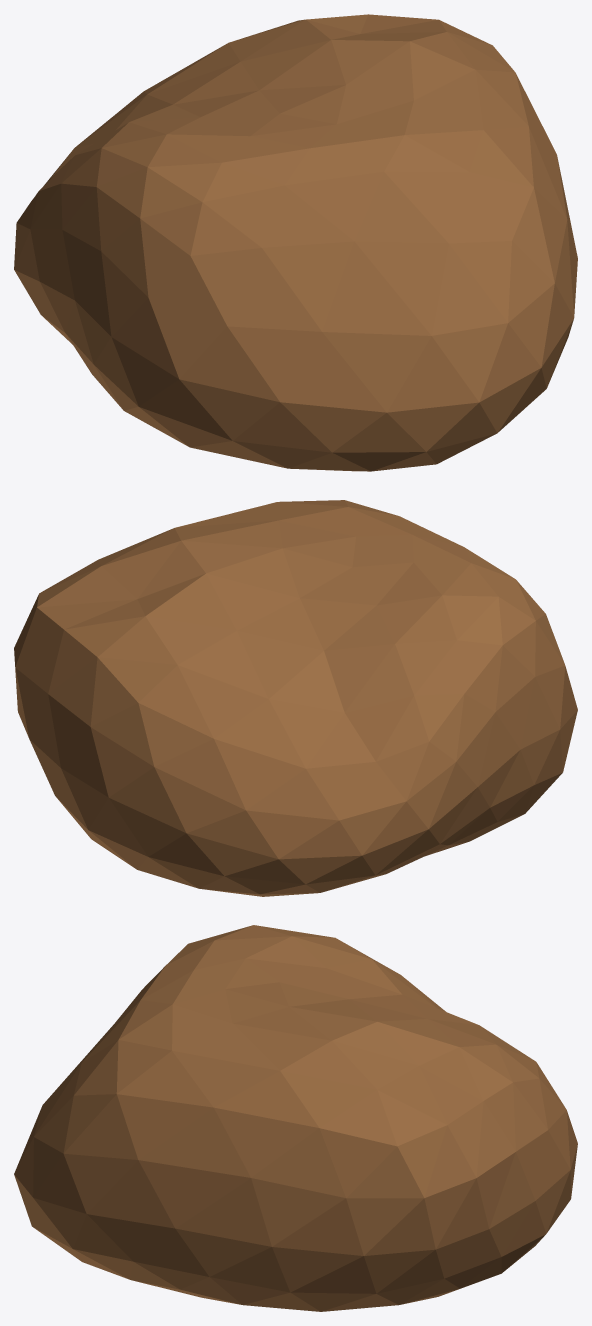
File: stone01.fbx
3 views of the same model, one above another, from view 1: azimuth 30°, elevation 25°; view 2: azimuth 150°, elevation 25°; view 3: azimuth 270°, elevation 25° (orthographic). The views are drawn at different scales.
Visible parts, largest first — view 1: Icosphere; view 2: Icosphere; view 3: Icosphere.
Boxes of the visible parts, box(x1,y1,x2,y2) form: Icosphere: box(14, 14, 577, 471); Icosphere: box(14, 500, 577, 896); Icosphere: box(14, 925, 577, 1311).
Bounding box in the file's own units: 1.92 × 1.1 × 2.13.
